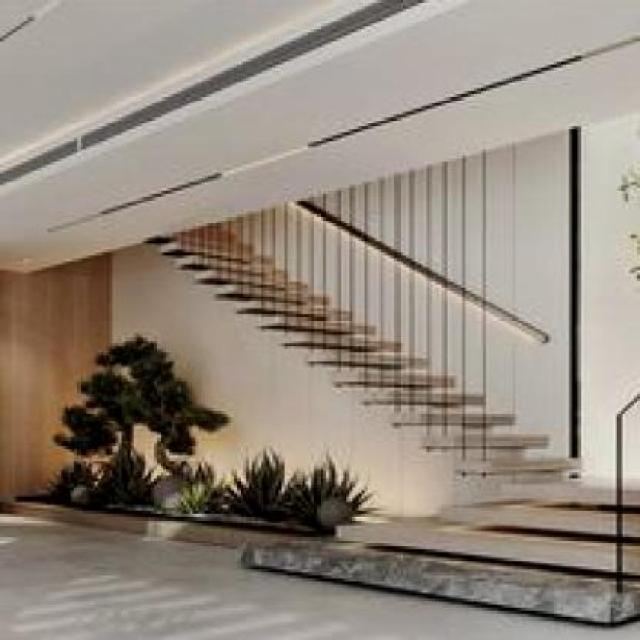stair: (218, 475, 638, 583)
